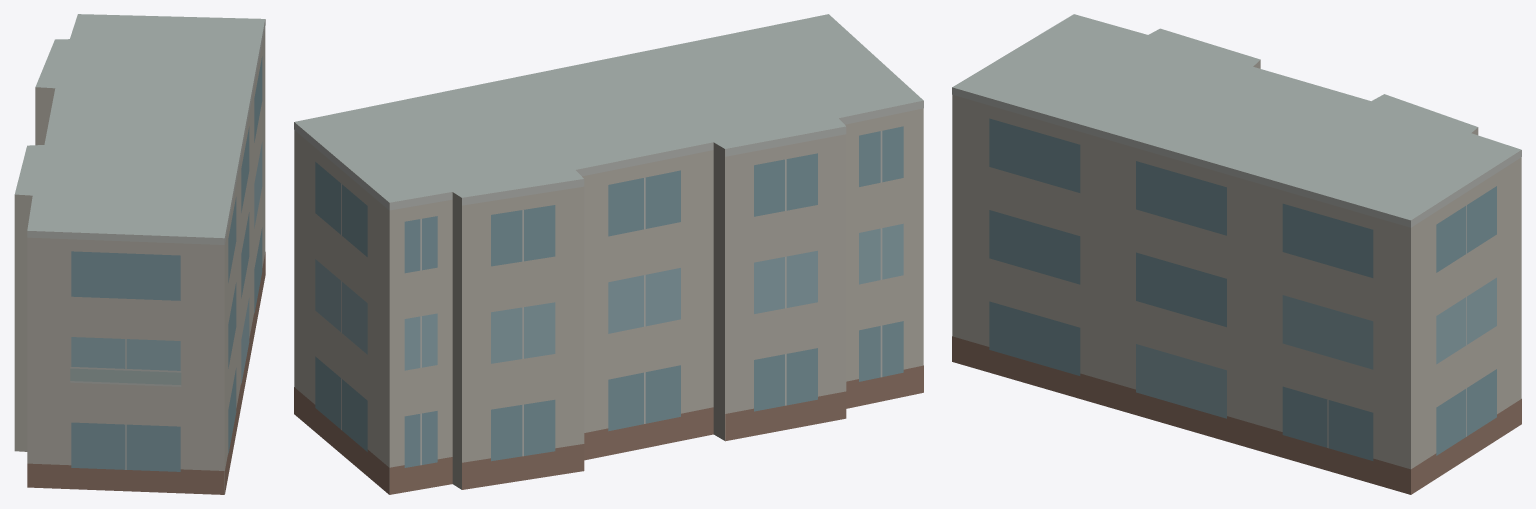
The model's file is survey-upis-32714483.glb.
The picture shows the model from 3 angles, left to right: view 1: azimuth 30°, elevation 25°; view 2: azimuth 150°, elevation 25°; view 3: azimuth 270°, elevation 25°; orthographic projection. The views are drawn at different scales.
Visible parts, largest first — view 1: survey-upis-32714483.tmp; view 2: survey-upis-32714483.tmp; view 3: survey-upis-32714483.tmp.
Boxes of the visible parts, left/top/right/bottom form: survey-upis-32714483.tmp: left=14, top=14, right=265, bottom=494; survey-upis-32714483.tmp: left=294, top=14, right=923, bottom=494; survey-upis-32714483.tmp: left=952, top=14, right=1521, bottom=494.
Bounding box in the file's own units: 14.77 × 9.15 × 17.22.
